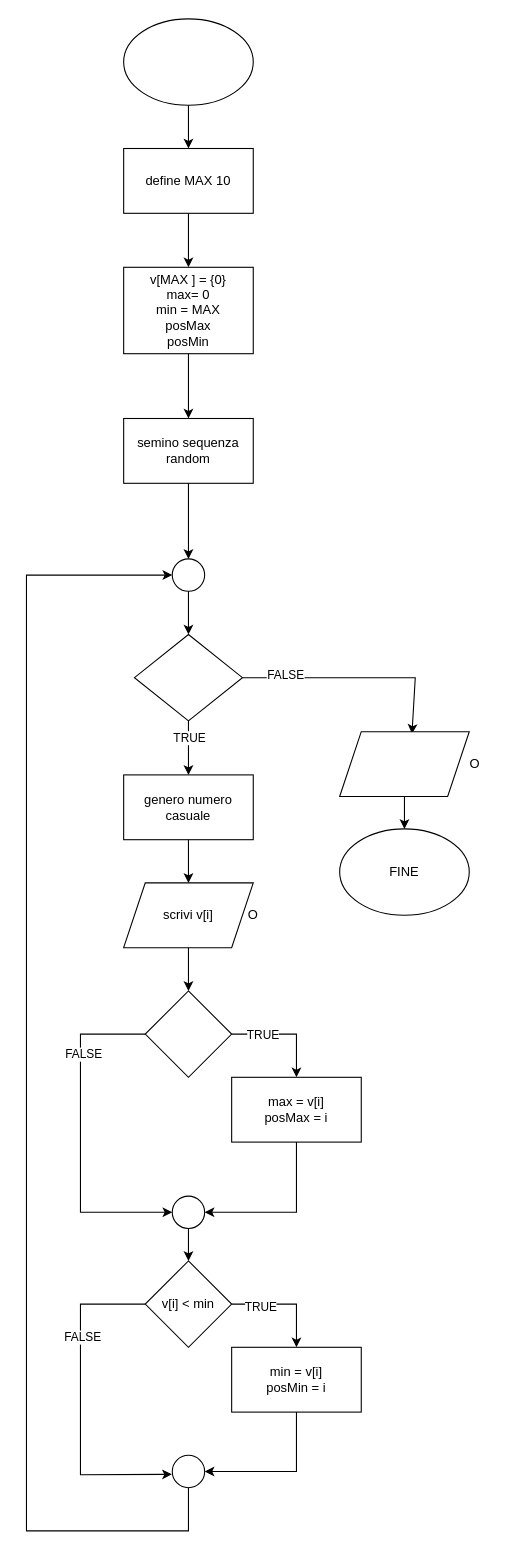
Image size: 510x1558. Some labels were removed from this diagram. Here are the shapes that lost their labels. From the top down, the centre of each, then its label:
the point at 188,61: INIZIO
the point at 187,677: i=0; i<MAX; i++
the point at 404,763: min max posMin posMax
the point at 188,1033: v[i] > max
